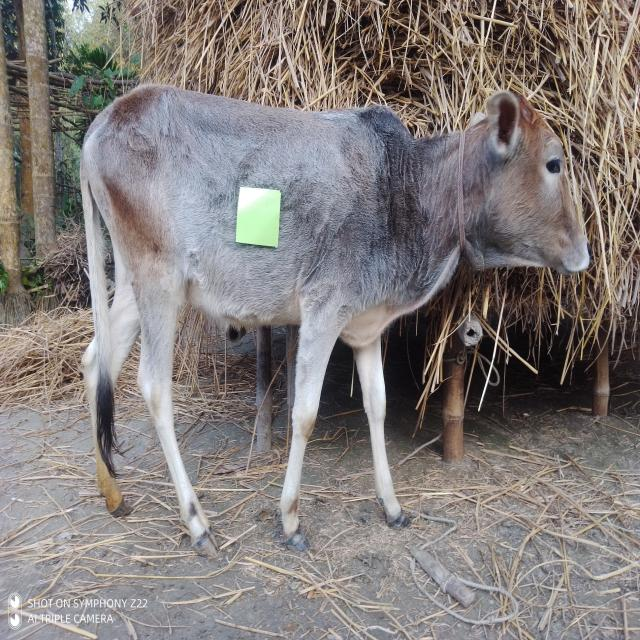badan_sapi: (105, 103, 386, 329)
sapi: (80, 87, 599, 557)
